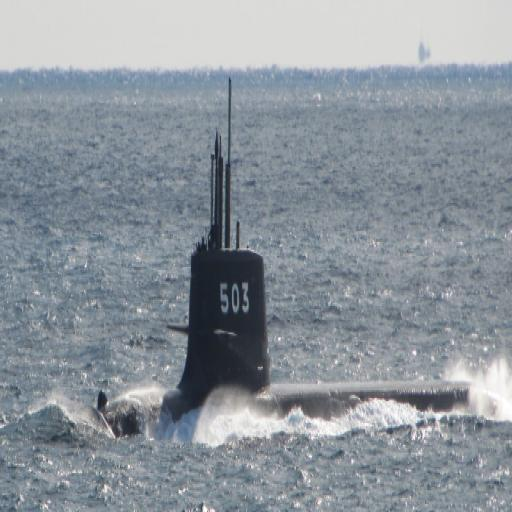submarine: (99, 76, 503, 415)
